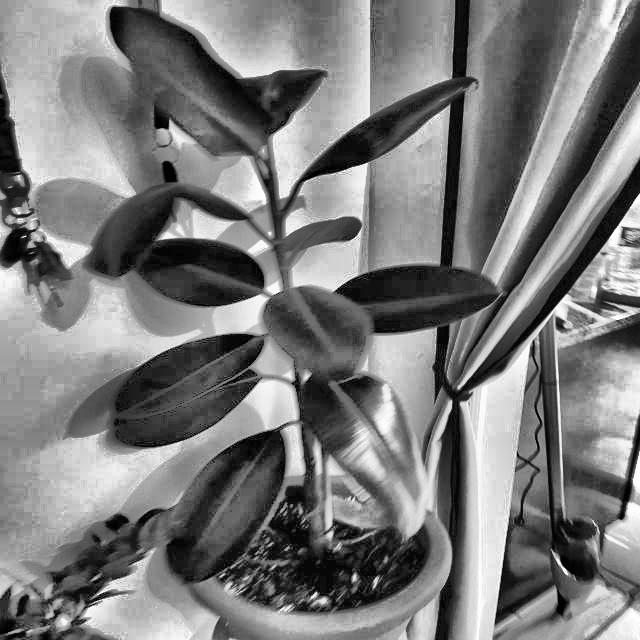plants: (90, 25, 438, 564)
